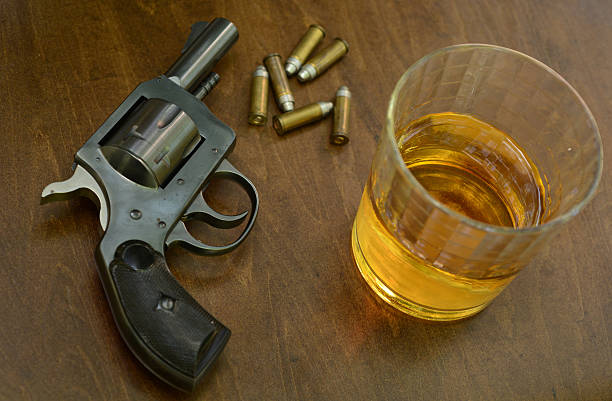alcohol: (350, 43, 604, 323)
gun: (40, 13, 259, 394)
